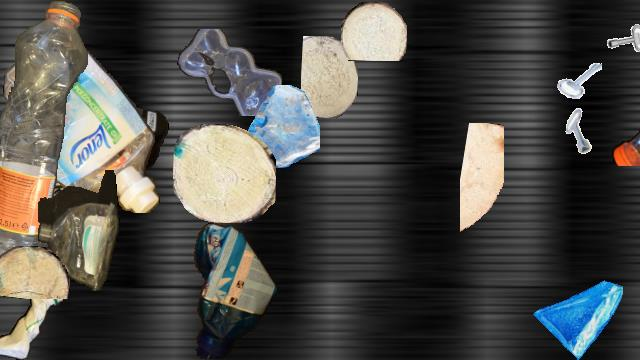glass: (532, 269, 622, 359), (237, 85, 319, 167)
metal: (595, 2, 640, 58), (558, 108, 604, 154), (557, 59, 601, 103)
plastic: (2, 40, 162, 212), (0, 111, 169, 247), (0, 1, 87, 265), (188, 221, 276, 359), (38, 170, 120, 292), (177, 29, 283, 115), (0, 275, 62, 359), (610, 90, 640, 166)
wood: (173, 124, 275, 222), (460, 123, 504, 239), (301, 36, 357, 118), (341, 2, 407, 60), (0, 246, 70, 298)
